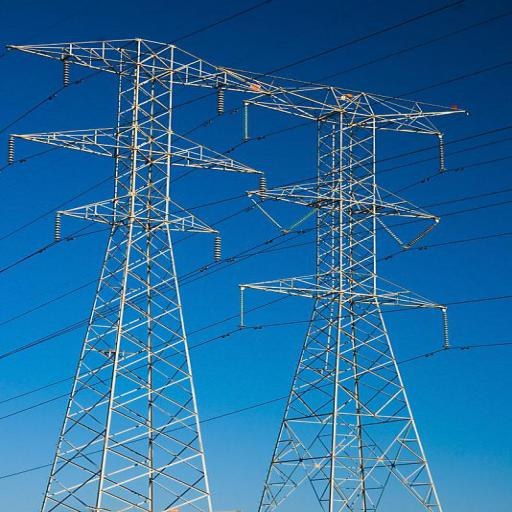ss_3: (6, 32, 268, 511), (214, 66, 476, 512)
